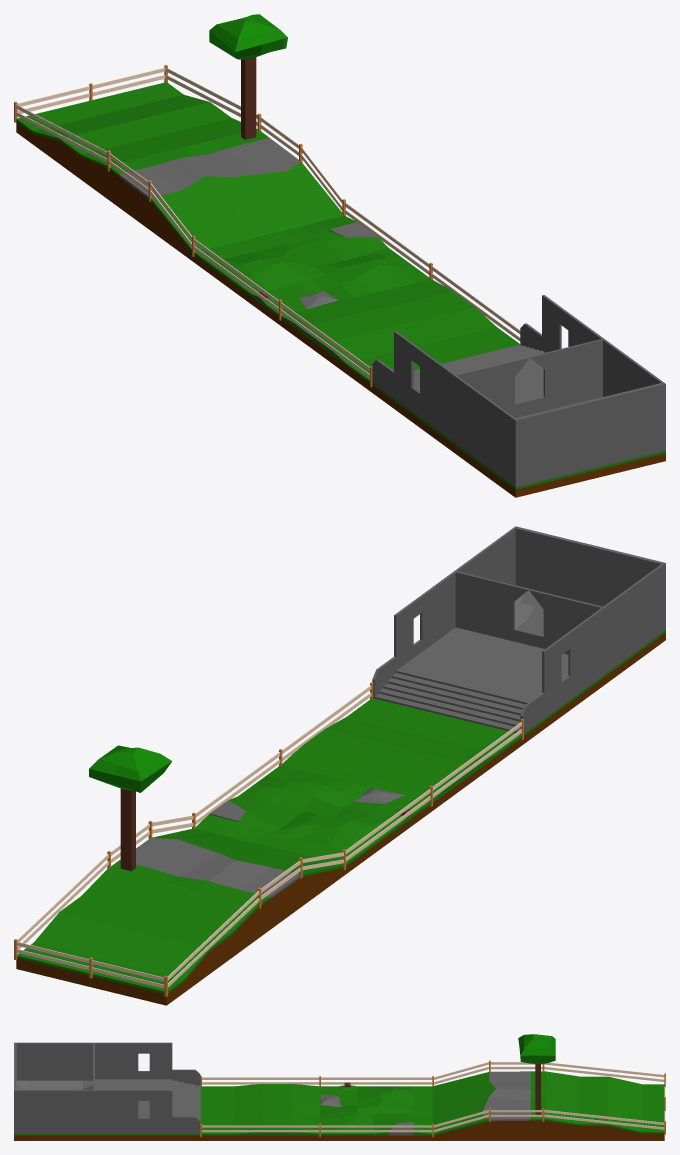
File: Maison.fbx
3 views of the same model, one above another, from view 1: azimuth 30°, elevation 25°; view 2: azimuth 150°, elevation 25°; view 3: azimuth 270°, elevation 25° (orthographic). The views are drawn at different scales.
Parts seen in each view (by area): view 1: Terrain, Pillar; view 2: Terrain, Pillar; view 3: Terrain, Pillar.
Boxes of the visible parts, x1,y1,x2,y2 form: Terrain: [16, 14, 665, 497]; Pillar: [14, 65, 520, 387]; Terrain: [16, 526, 665, 1005]; Pillar: [14, 682, 523, 996]; Terrain: [14, 1034, 664, 1140]; Pillar: [200, 1060, 665, 1137].
Size of the model in its own units: 4320 by 3894 by 23050.
